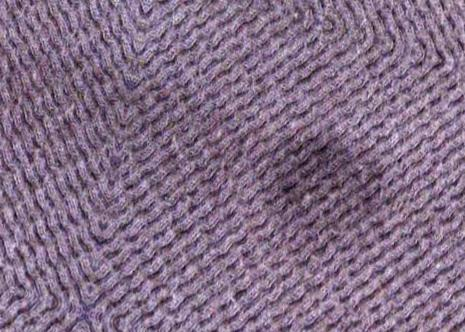stain: (267, 134, 387, 233)
